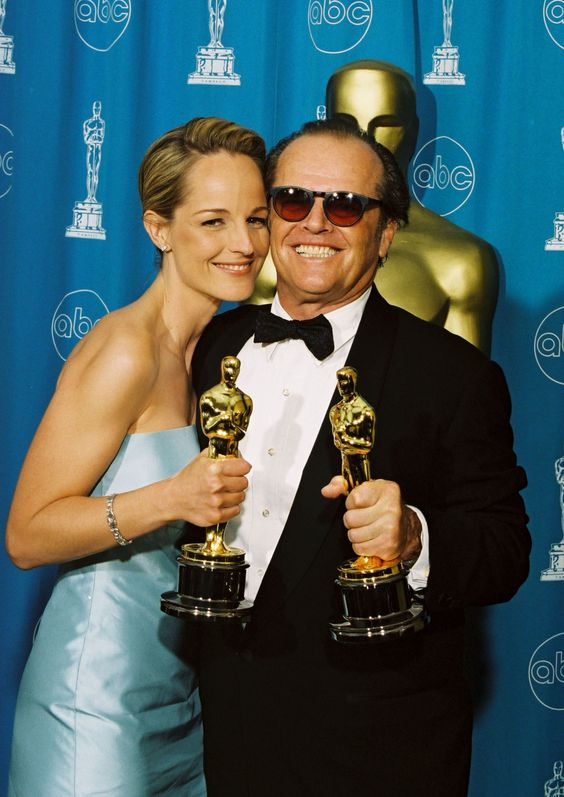hand: (164, 445, 248, 514)
